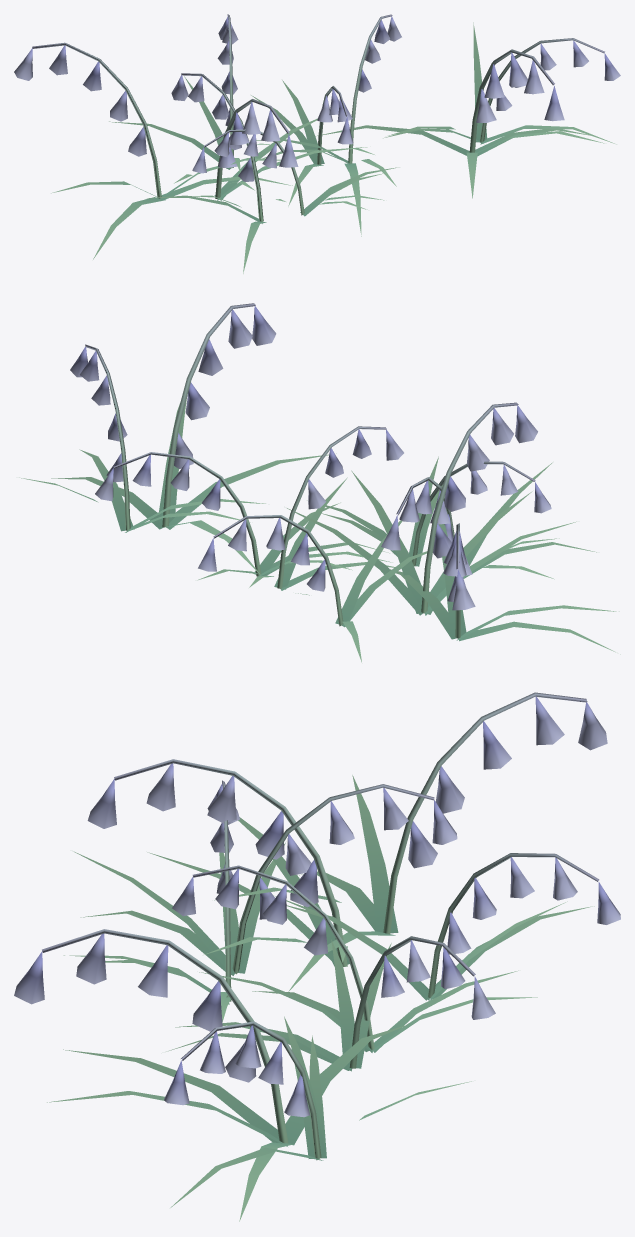
The model's file is bluebell_patch_a.glb.
3 renders of one model, top to bottom at view 1: azimuth 30°, elevation 25°; view 2: azimuth 150°, elevation 25°; view 3: azimuth 270°, elevation 25°, orthographic. The views are drawn at different scales.
Parts seen in each view (by area): view 1: soft; view 2: soft; view 3: soft.
Boxes of the visible parts, left/top/right/bottom form: soft: left=14, top=14, right=620, bottom=273; soft: left=19, top=303, right=620, bottom=662; soft: left=14, top=692, right=620, bottom=1221.
Bounding box in the file's own units: 1.32 × 0.385 × 0.8778.
